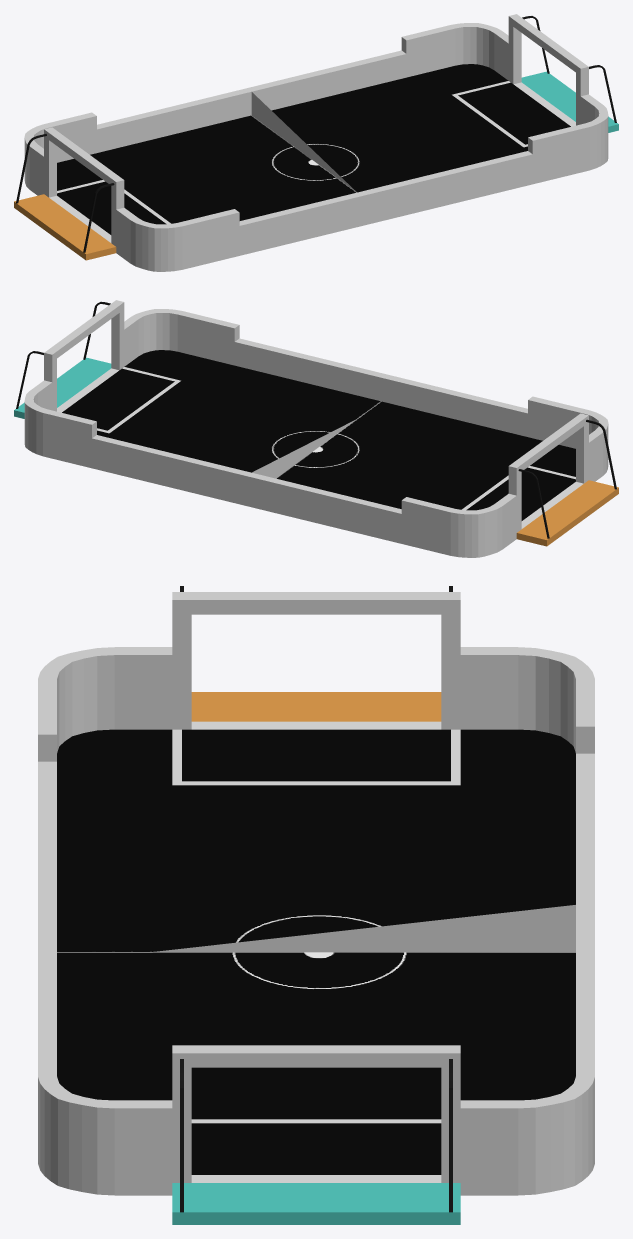
The model's file is SoccerField.fbx.
The picture shows the model from 3 angles, top to bottom: view 1: azimuth 30°, elevation 25°; view 2: azimuth 150°, elevation 25°; view 3: azimuth 270°, elevation 25°; orthographic projection. The views are drawn at different scales.
Visible parts, largest first — view 1: FieldRight, FieldLeft; view 2: FieldRight, FieldLeft; view 3: FieldLeft, FieldRight.
Part boxes in pixels (bbox=[...]): FieldRight: bbox=[247, 14, 618, 219]; FieldLeft: bbox=[14, 88, 386, 271]; FieldRight: bbox=[14, 300, 385, 505]; FieldLeft: bbox=[246, 374, 618, 557]; FieldLeft: bbox=[38, 586, 594, 952]; FieldRight: bbox=[38, 904, 594, 1224].
Size of the model in its own units: 3534 by 451 by 1600.
